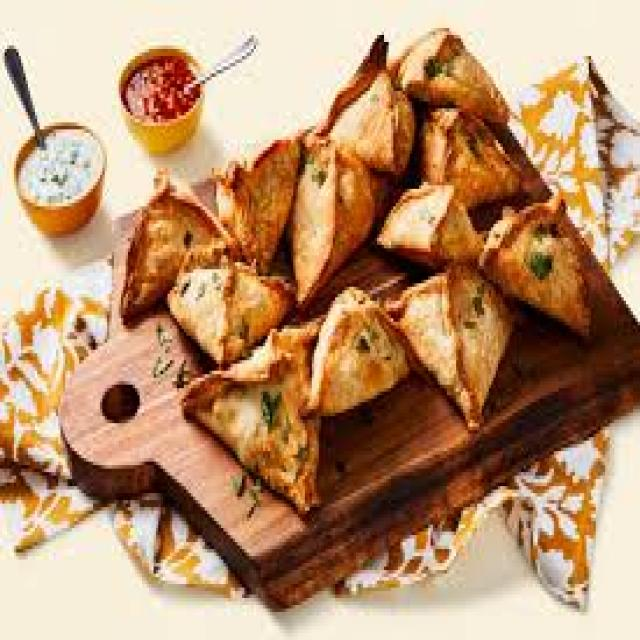SAMOSA: (183, 318, 327, 527), (387, 263, 521, 433), (118, 158, 241, 329), (289, 133, 403, 306), (476, 188, 591, 342), (304, 288, 425, 417), (165, 263, 302, 367)
